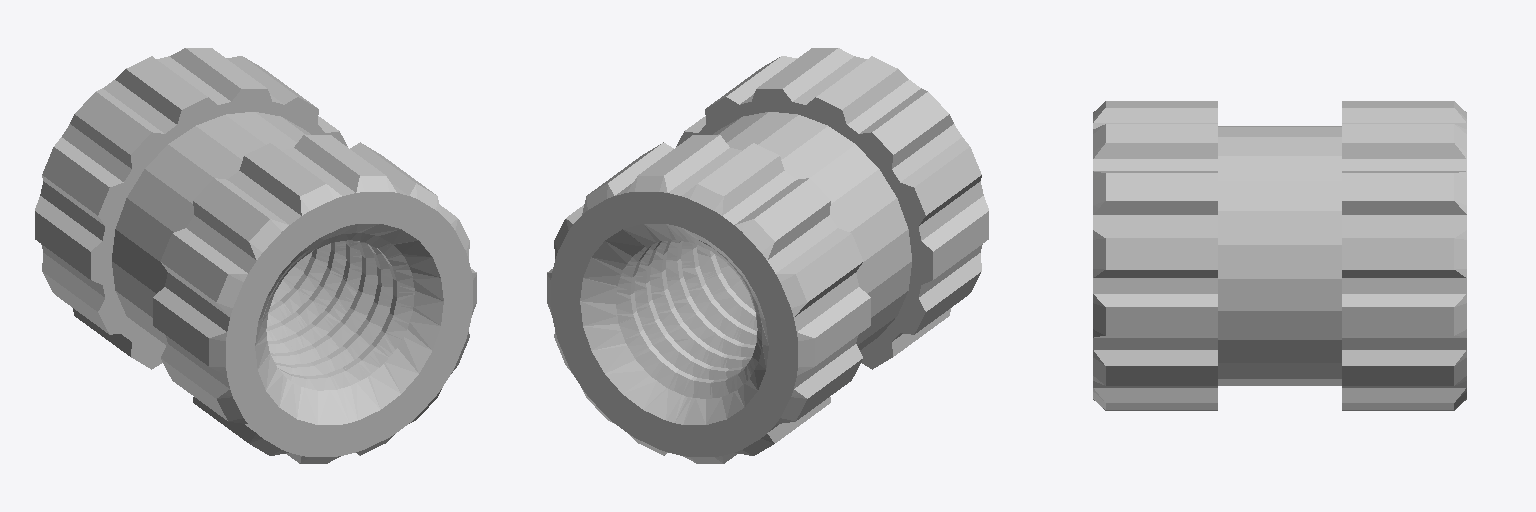
File: T200_07_T200STEP_T200STEPSTEP_T200_NOZZLESTEPSTEP_T200STEP1_01_T200STEP1.obj
The picture shows the model from 3 angles: view 1: azimuth 30°, elevation 25°; view 2: azimuth 150°, elevation 25°; view 3: azimuth 270°, elevation 25°; orthographic projection.
Size of the model in its own units: 0.005 by 0.005 by 0.006.